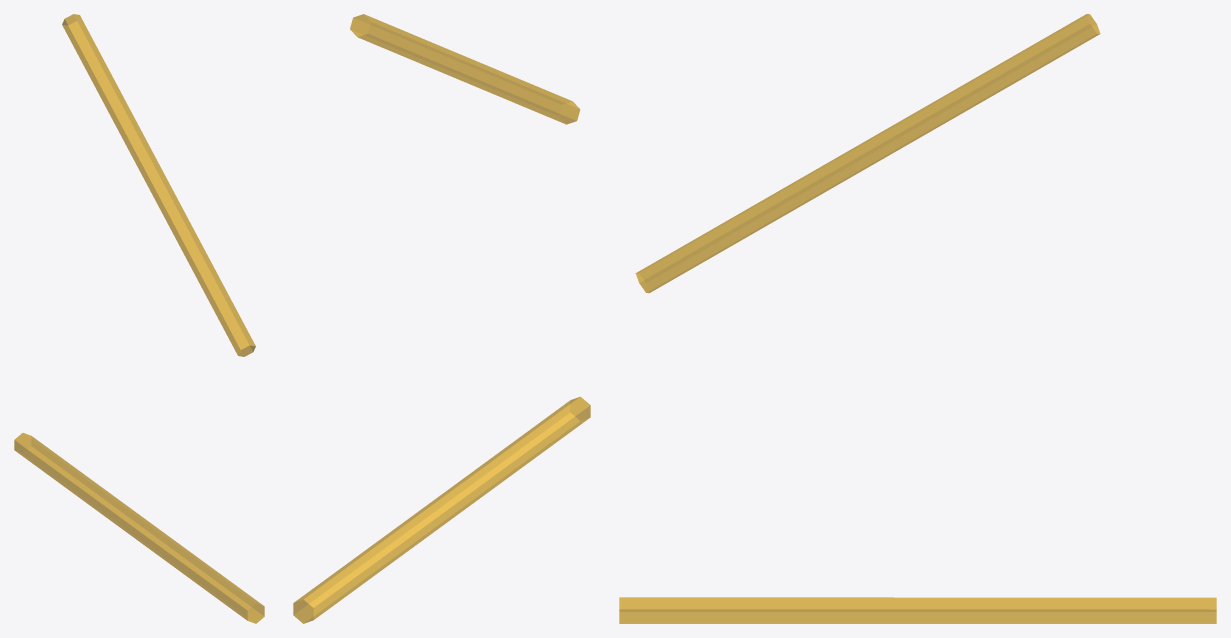
Rendered from SM_Veh_Ship_M_Mast_Back_02_Boom_Back_01_Collision.fbx.
3 renders of one model, left to right at view 1: azimuth 30°, elevation 25°; view 2: azimuth 150°, elevation 25°; view 3: azimuth 270°, elevation 25°, orthographic. The views are drawn at different scales.
Parts seen in each view (by area): view 1: SM_Veh_Ship_M_Mast_Back_02_Boom_Back_01_Collision; view 2: SM_Veh_Ship_M_Mast_Back_02_Boom_Back_01_Collision; view 3: SM_Veh_Ship_M_Mast_Back_02_Boom_Back_01_Collision.
Boxes of the visible parts, x1=… form: SM_Veh_Ship_M_Mast_Back_02_Boom_Back_01_Collision: x1=14, y1=14, x2=264, y2=623; SM_Veh_Ship_M_Mast_Back_02_Boom_Back_01_Collision: x1=293, y1=14, x2=590, y2=623; SM_Veh_Ship_M_Mast_Back_02_Boom_Back_01_Collision: x1=619, y1=14, x2=1216, y2=623.
Bounding box in the file's own units: 61.2 × 1630 × 1446.
